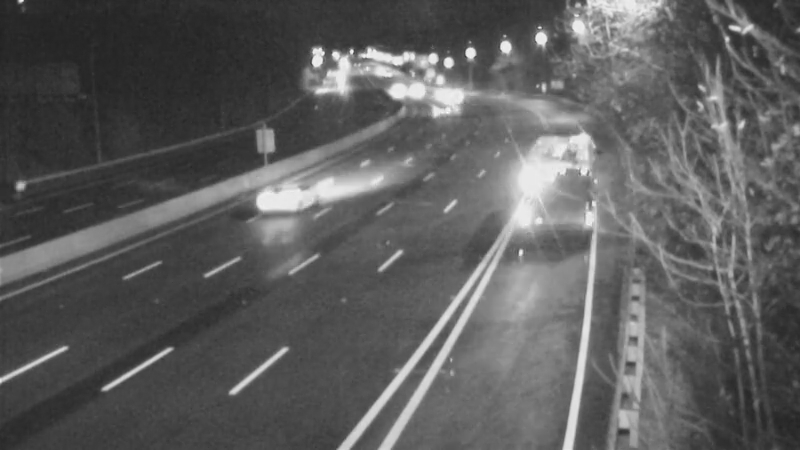vehicle: (512, 113, 592, 193), (255, 160, 335, 240), (1, 155, 67, 235), (391, 67, 441, 117), (365, 64, 415, 114), (421, 70, 471, 120), (426, 73, 476, 123), (415, 84, 465, 134)
